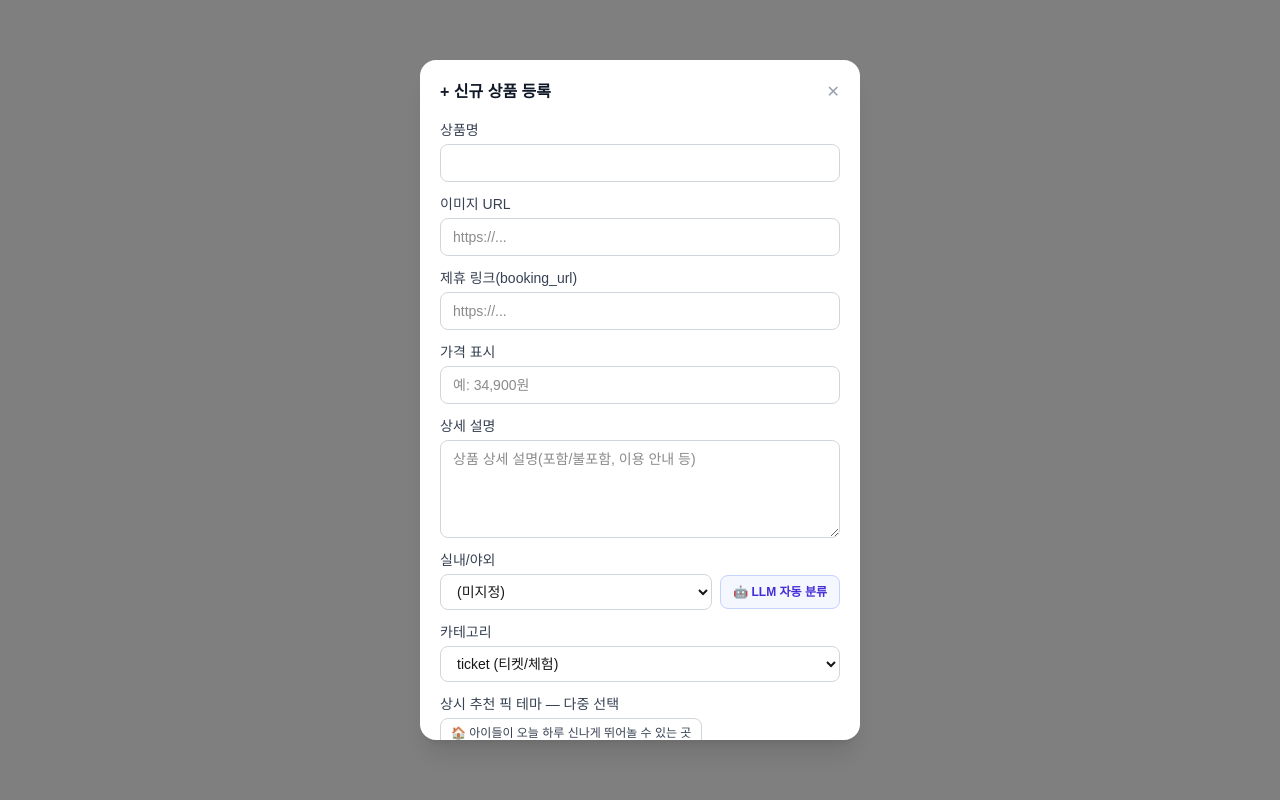
Test: CuratedItemFormModal — 실내/야외 자동 분류(2026-09-17) › 제목/설명을 넣고 "🤖 LLM 자동 분류"를 누르면 결과를 보여주고 select에 매핑된 값을 채운다
The image size is (1280, 800).
Type "숲속 키즈카페 이용권" into the field labelled "상품명" at (640, 163), box [440,144,840,182]
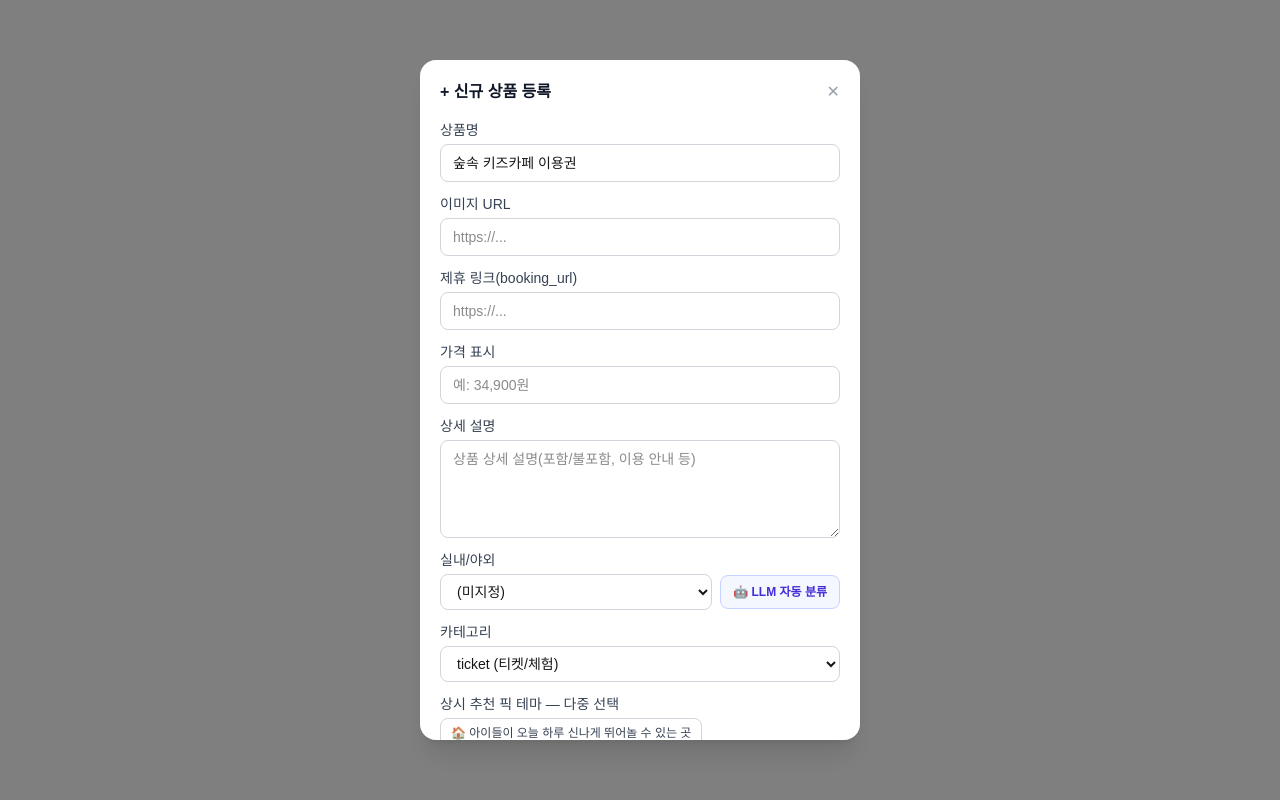
Type "실내 놀이 공간입니다" into the text box labelled "상세 설명" at (640, 489), box [440,440,840,538]
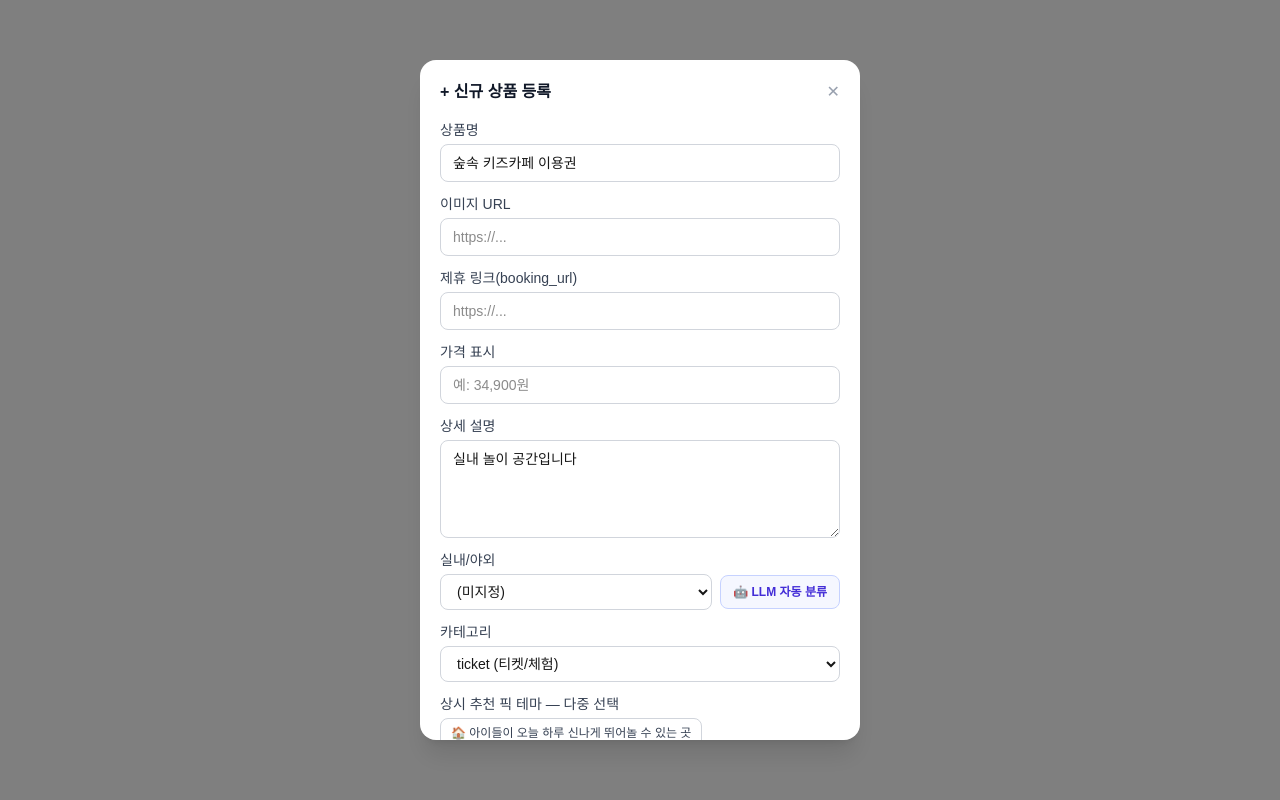
Click the button "🤖 LLM 자동 분류" at (780, 592), box [720,575,840,609]
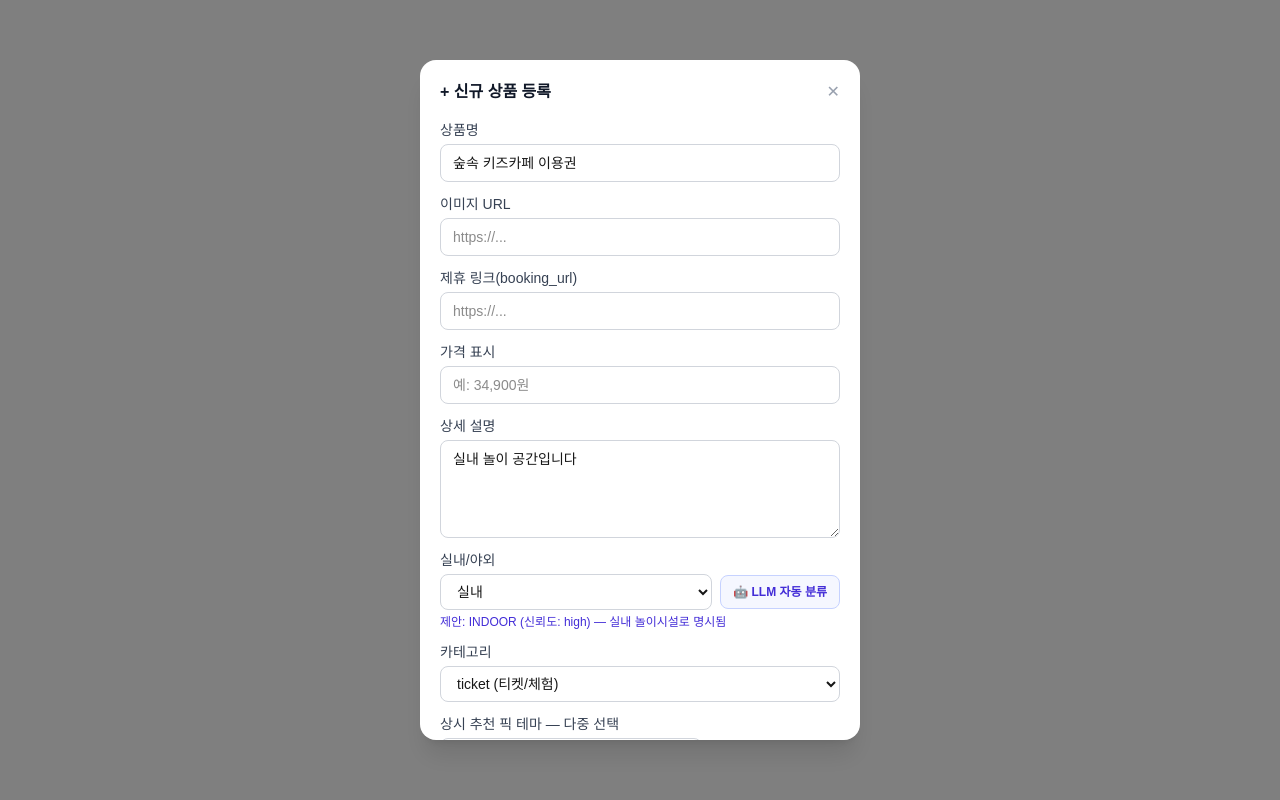
Result: the text "제안: INDOOR (신뢰도: high) — 실내 놀이시설로 명시됨" is shown at [440,615,726,629]
Result: the dropdown showing "실내" is shown at [440,574,712,610]
